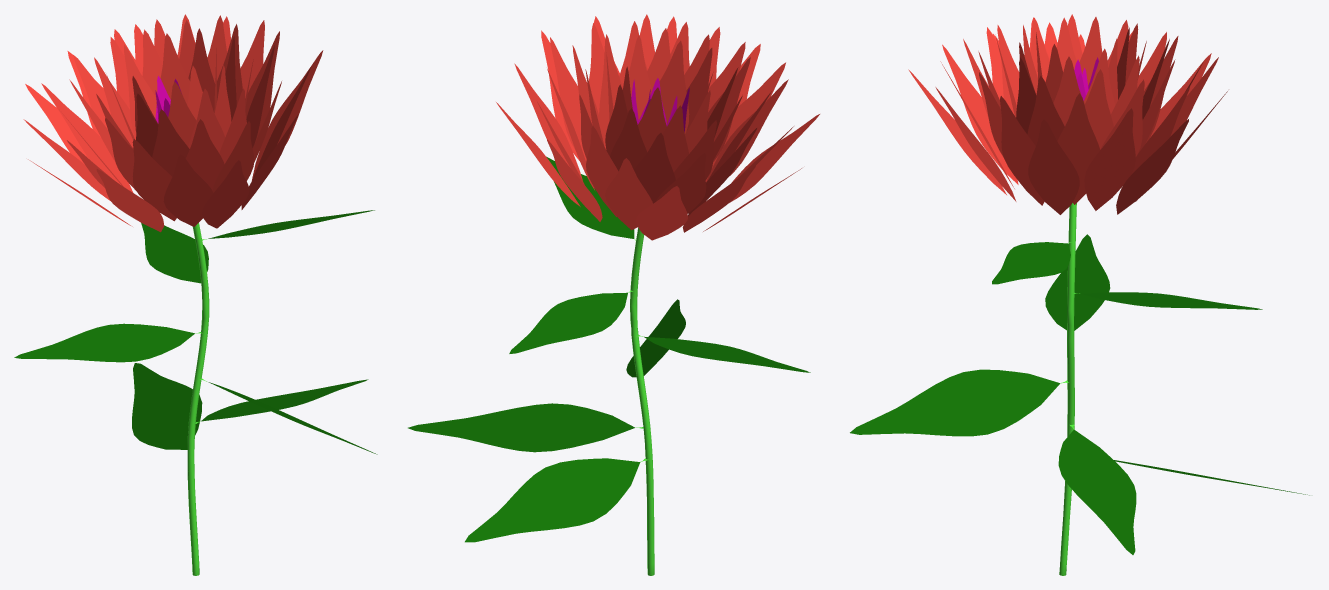
Rendered from Flower2.fbx.
3 views of the same model, side by side, from view 1: azimuth 30°, elevation 25°; view 2: azimuth 150°, elevation 25°; view 3: azimuth 270°, elevation 25° (orthographic). The views are drawn at different scales.
Parts seen in each view (by area): view 1: Leaf_3, Leaf, Root, Leaf_4, Petal_Clone__39, Petal_Clone__33, Petal_Clone__31, Petal_Clone__47, Leaf_1, Petal_Clone__44, Petal_Clone__26, Petal_Clone__18 (+30 smaller); view 2: Leaf, Leaf_1, Leaf_4, Root, Petal_Clone__38, Leaf_3, Petal_Clone__46, Leaf_5, Petal_Clone__25, Leaf_2, Petal_Clone_, Petal_Clone__32 (+27 smaller); view 3: Leaf_2, Leaf_1, Leaf_3, Petal_Clone__45, Petal_Clone__40, Root, Leaf_5, Petal_Clone__32, Petal_Clone__37, Petal_Clone__48, Petal_Clone__39, Leaf_4 (+18 smaller).
Boxes of the visible parts, <box> form: Leaf_3: <box>14,323,194,362</box>; Leaf: <box>132,363,202,449</box>; Root: <box>187,223,209,575</box>; Leaf_4: <box>141,223,208,283</box>; Petal_Clone__39: <box>163,154,213,226</box>; Petal_Clone__33: <box>41,83,133,192</box>; Petal_Clone__31: <box>132,139,176,221</box>; Petal_Clone__47: <box>202,160,249,228</box>; Leaf_1: <box>201,379,368,421</box>; Petal_Clone__44: <box>96,169,164,232</box>; Petal_Clone__26: <box>185,119,224,190</box>; Petal_Clone__18: <box>152,109,189,176</box>; Leaf: <box>465,458,640,542</box>; Leaf_1: <box>408,403,634,452</box>; Leaf_4: <box>509,292,627,353</box>; Root: <box>630,227,654,575</box>; Petal_Clone__38: <box>605,158,652,230</box>; Leaf_3: <box>644,336,810,372</box>; Petal_Clone__46: <box>635,186,687,240</box>; Leaf_5: <box>546,156,634,238</box>; Petal_Clone__25: <box>634,133,675,203</box>; Leaf_2: <box>626,299,685,377</box>; Petal_Clone_: <box>659,40,689,133</box>; Petal_Clone__32: <box>550,37,586,161</box>; Leaf_2: <box>850,369,1059,436</box>; Leaf_1: <box>1058,429,1136,554</box>; Leaf_3: <box>1045,234,1110,330</box>; Petal_Clone__45: <box>1028,119,1079,214</box>; Petal_Clone__40: <box>1084,108,1135,210</box>; Root: <box>1059,203,1076,575</box>; Leaf_5: <box>992,242,1070,284</box>; Petal_Clone__32: <box>1057,93,1100,204</box>; Petal_Clone__37: <box>1000,96,1044,205</box>; Petal_Clone__48: <box>1116,119,1188,214</box>; Petal_Clone__39: <box>942,44,1018,184</box>; Leaf_4: <box>1080,292,1262,309</box>.
Size of the model in its own units: 145 by 194 by 152.
